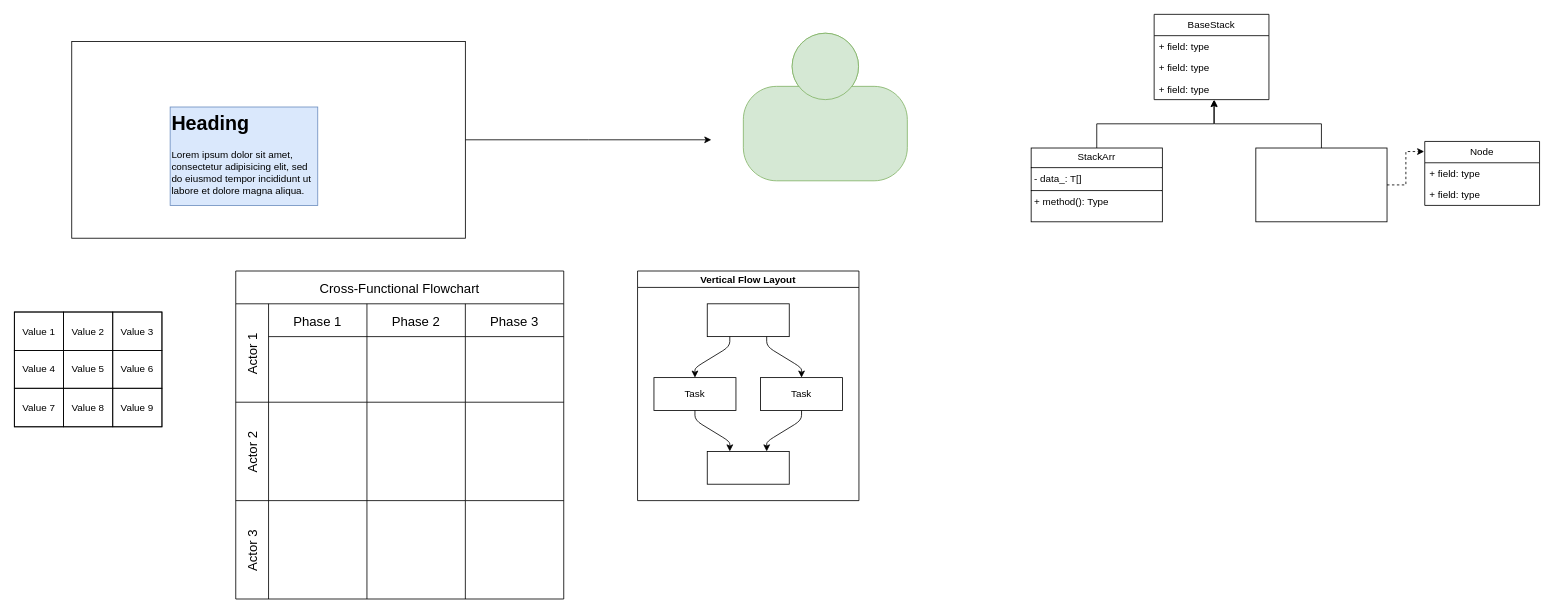
Image size: 1554x613. Some labels were removed from this diagram. Here are the shapes that lost their labels. From the top down, the centre of each, then its label:
At pixel 825 106: "Person name [Person] Description of person.".
At pixel 1321 184: "StackLst - node_head: Node + method(): Type".
At pixel 747 320: "Start".
At pixel 747 467: "End".
